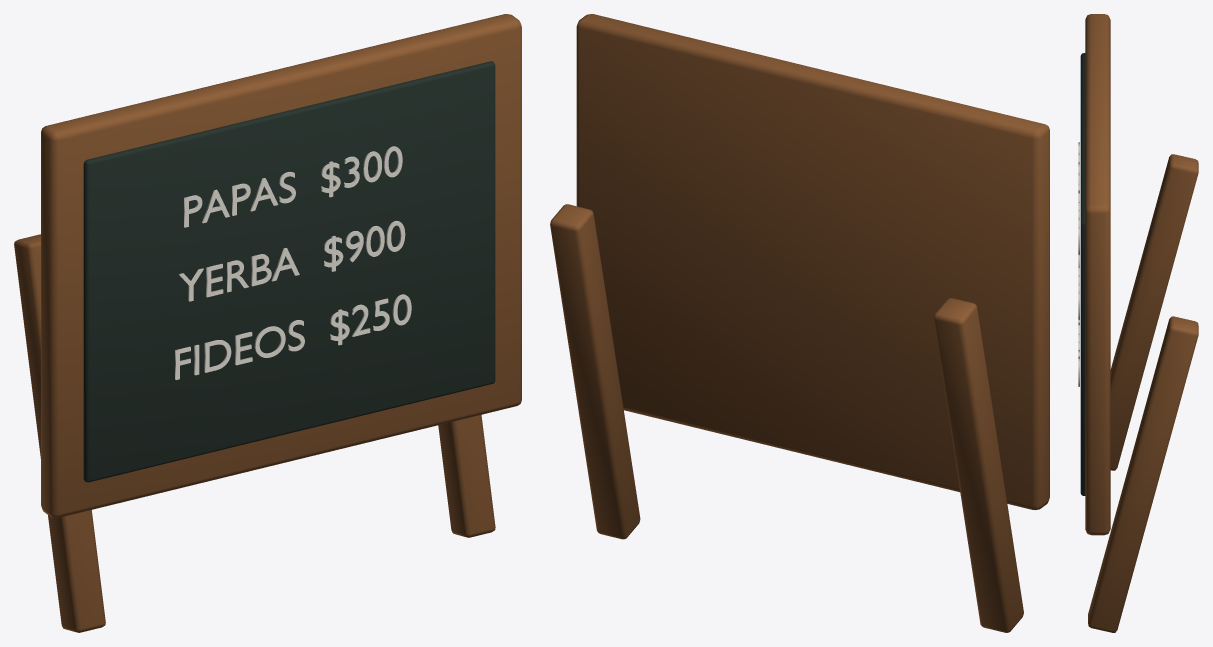
The model's file is prop_pizarra.glb.
3 views of the same model, side by side, from view 1: azimuth 30°, elevation 25°; view 2: azimuth 150°, elevation 25°; view 3: azimuth 270°, elevation 25° (orthographic). The views are drawn at different scales.
Parts seen in each view (by area): view 1: prop_pizarra; view 2: prop_pizarra; view 3: prop_pizarra.
Part boxes in pixels (x1,y1,x2,y2): prop_pizarra: (14, 14, 521, 632); prop_pizarra: (550, 14, 1049, 632); prop_pizarra: (1078, 14, 1198, 632).
Size of the model in its own units: 0.46 by 0.4776 by 0.119.
